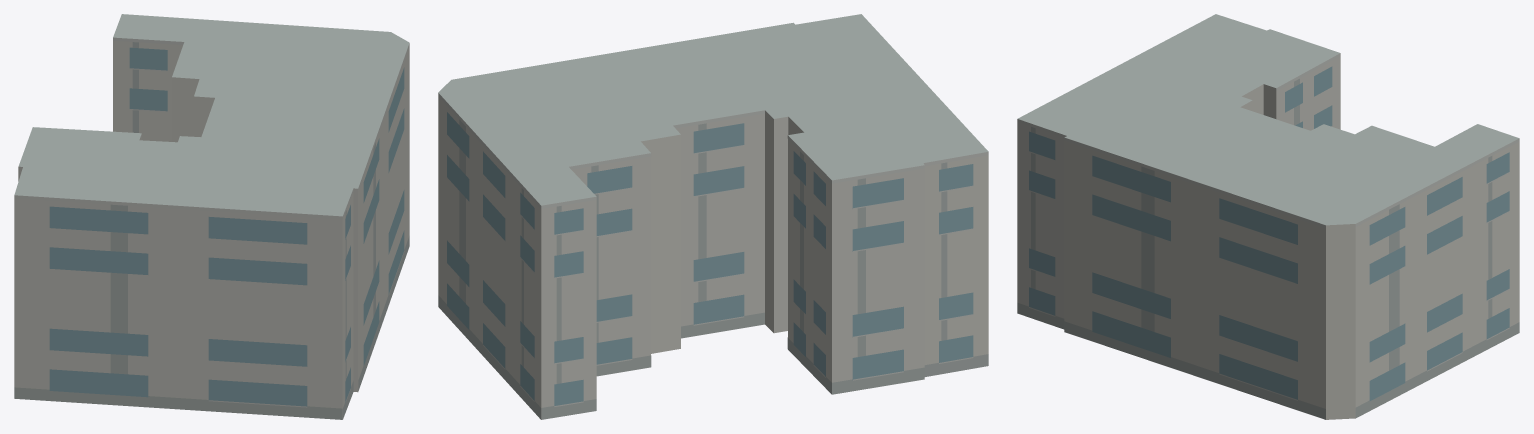
Rendered from survey-upis-32524913.glb.
The picture shows the model from 3 angles, left to right: view 1: azimuth 30°, elevation 25°; view 2: azimuth 150°, elevation 25°; view 3: azimuth 270°, elevation 25°; orthographic projection. The views are drawn at different scales.
Visible parts, largest first — view 1: survey-upis-32524913.tmp; view 2: survey-upis-32524913.tmp; view 3: survey-upis-32524913.tmp.
Boxes of the visible parts, bbox=[...] form: survey-upis-32524913.tmp: bbox=[14, 14, 409, 419]; survey-upis-32524913.tmp: bbox=[438, 14, 988, 419]; survey-upis-32524913.tmp: bbox=[1017, 14, 1519, 419].
Bounding box in the file's own units: 35.52 × 15.25 × 35.68.
